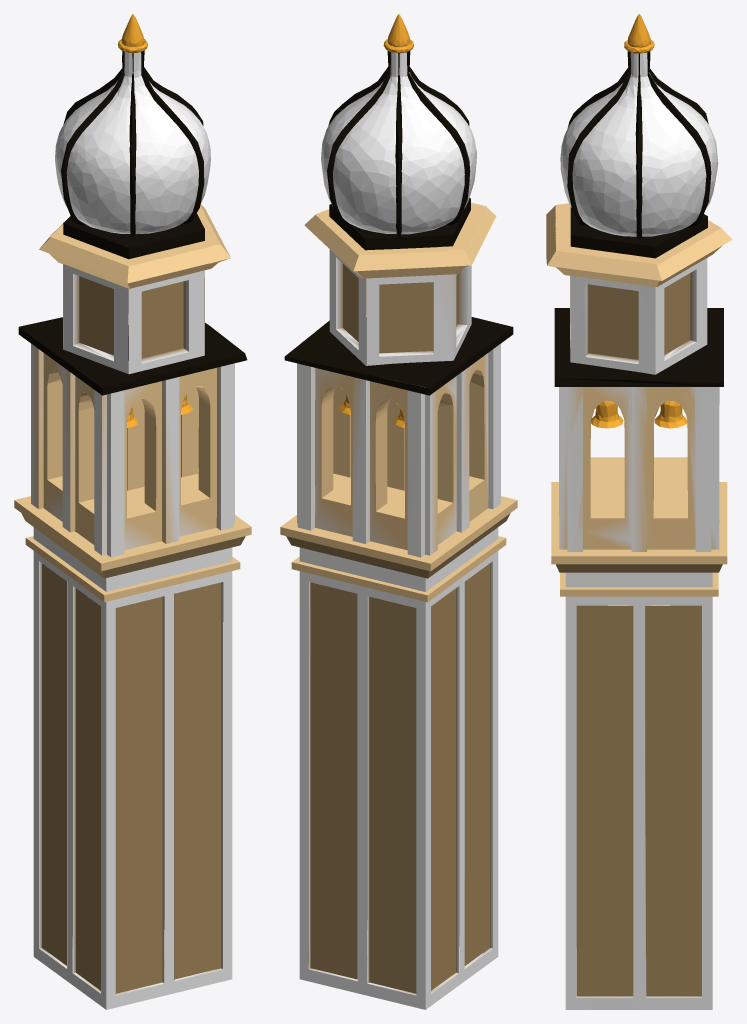
Rendered from Spire_Stock_02.glb.
3 renders of one model, left to right at view 1: azimuth 30°, elevation 25°; view 2: azimuth 150°, elevation 25°; view 3: azimuth 270°, elevation 25°, orthographic.
Visible parts, largest first — view 1: Spire_Stock_02; view 2: Spire_Stock_02; view 3: Spire_Stock_02.
Part boxes in pixels (box(x1,y1,x2,y2)): Spire_Stock_02: box(14, 14, 251, 1009); Spire_Stock_02: box(280, 14, 517, 1009); Spire_Stock_02: box(546, 14, 732, 1009).
Size of the model in its own units: 0.7503 by 4.09 by 0.7177.
